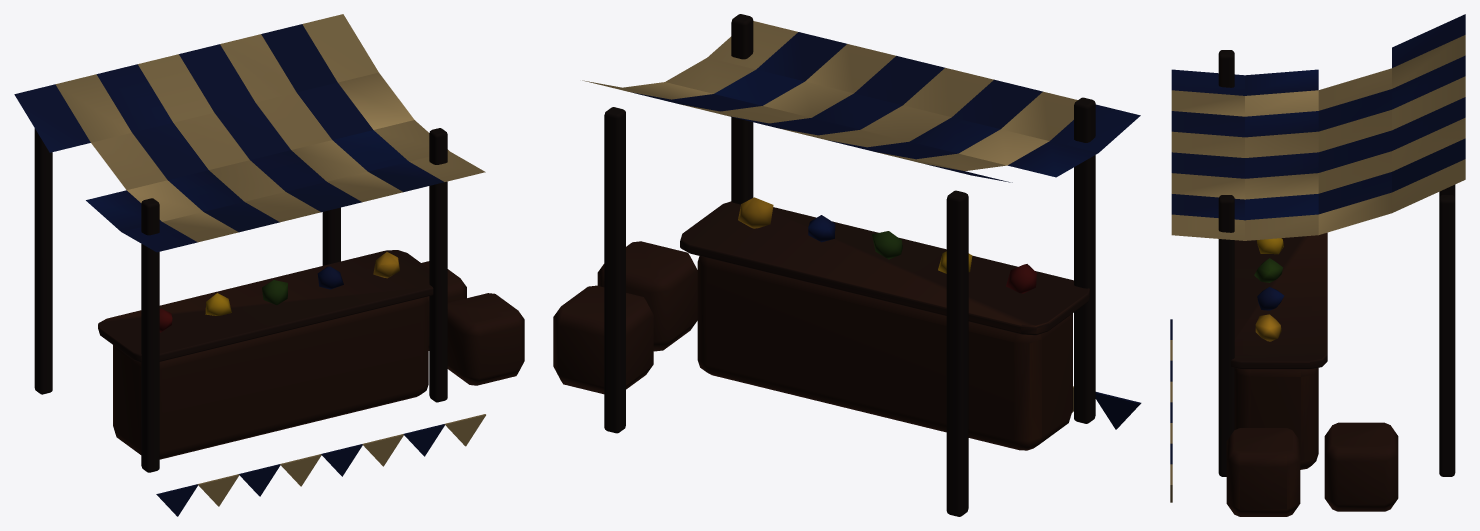
The model's file is BarracaB.fbx.
3 renders of one model, left to right at view 1: azimuth 30°, elevation 25°; view 2: azimuth 150°, elevation 25°; view 3: azimuth 270°, elevation 25°, orthographic. The views are drawn at different scales.
Visible parts, largest first — view 1: BarracaB; view 2: BarracaB; view 3: BarracaB.
Boxes of the visible parts, box(x1,y1,x2,y2) form: BarracaB: box(14, 14, 524, 516); BarracaB: box(553, 14, 1141, 516); BarracaB: box(1170, 14, 1465, 516).
Bounding box in the file's own units: 3.9 × 3 × 2.41.
